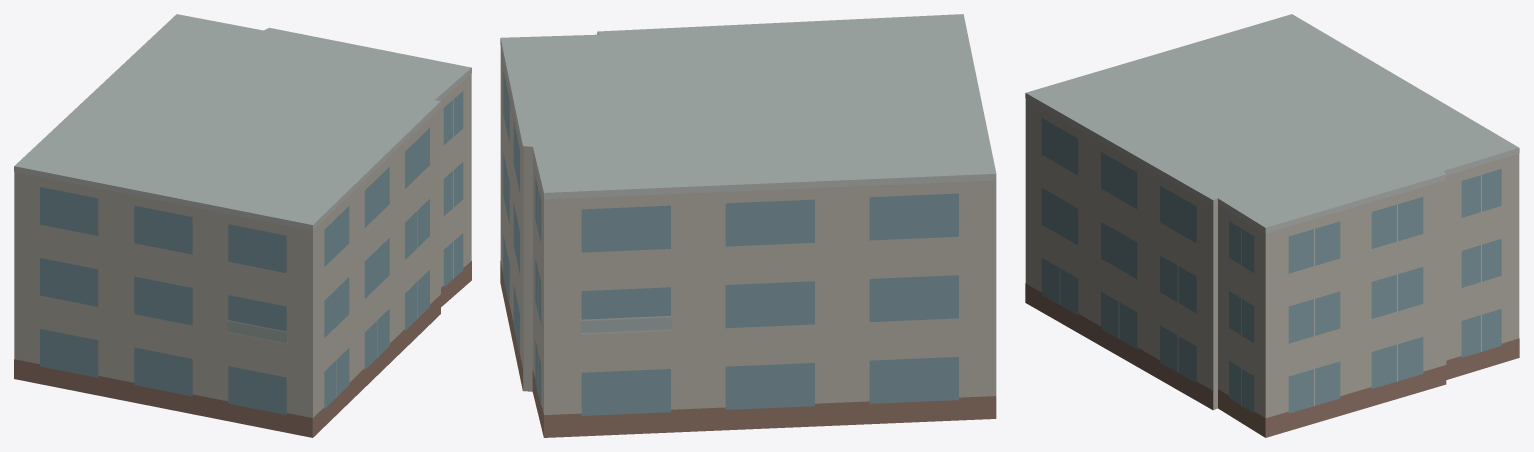
Rendered from survey-upis-33004980.glb.
3 views of the same model, side by side, from view 1: azimuth 30°, elevation 25°; view 2: azimuth 150°, elevation 25°; view 3: azimuth 270°, elevation 25° (orthographic). The views are drawn at different scales.
Visible parts, largest first — view 1: survey-upis-33004980.tmp; view 2: survey-upis-33004980.tmp; view 3: survey-upis-33004980.tmp.
Boxes of the visible parts, box(x1,y1,x2,y2) form: survey-upis-33004980.tmp: box(14, 14, 471, 437); survey-upis-33004980.tmp: box(500, 14, 996, 437); survey-upis-33004980.tmp: box(1025, 14, 1519, 437).
Size of the model in its own units: 20 by 9.15 by 19.52.
